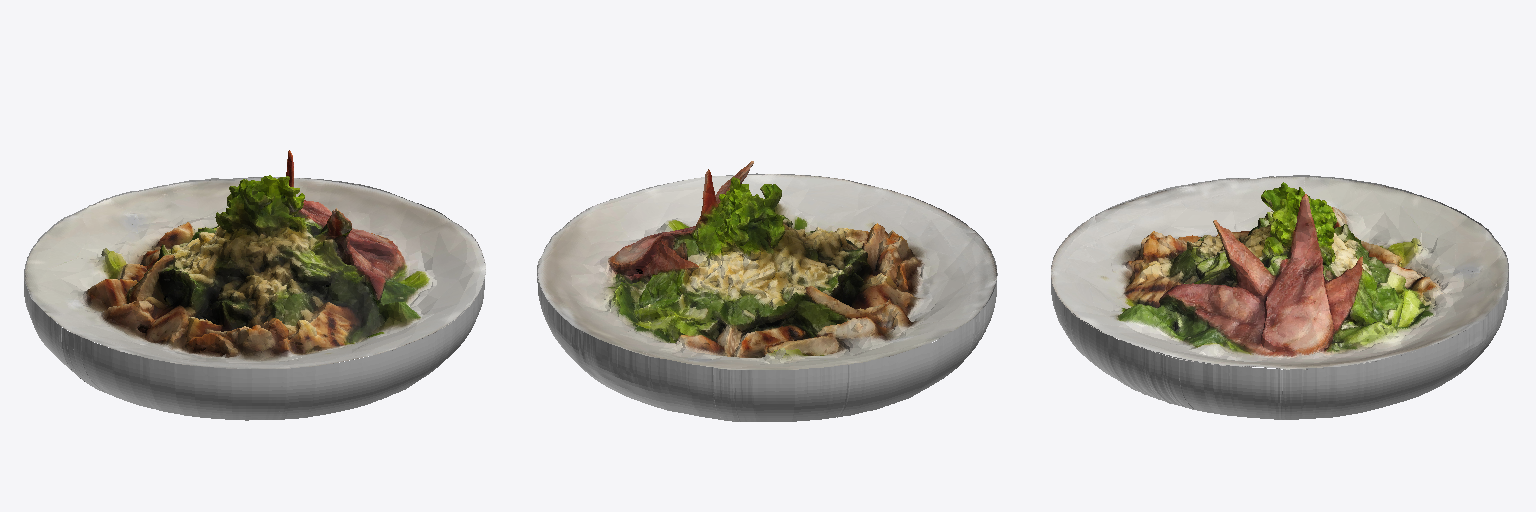
3 views of the same model, side by side, from view 1: azimuth 30°, elevation 25°; view 2: azimuth 150°, elevation 25°; view 3: azimuth 270°, elevation 25° (orthographic).
Parts seen in each view (by area): view 1: mmGroup0; view 2: mmGroup0; view 3: mmGroup0.
Boxes of the visible parts, box(x1,y1,x2,y2) form: mmGroup0: box(24, 150, 485, 420); mmGroup0: box(537, 161, 997, 421); mmGroup0: box(1051, 175, 1508, 419).
Bounding box in the file's own units: 0.1935 × 0.0785 × 0.1918.
2 materials, 1 textured.